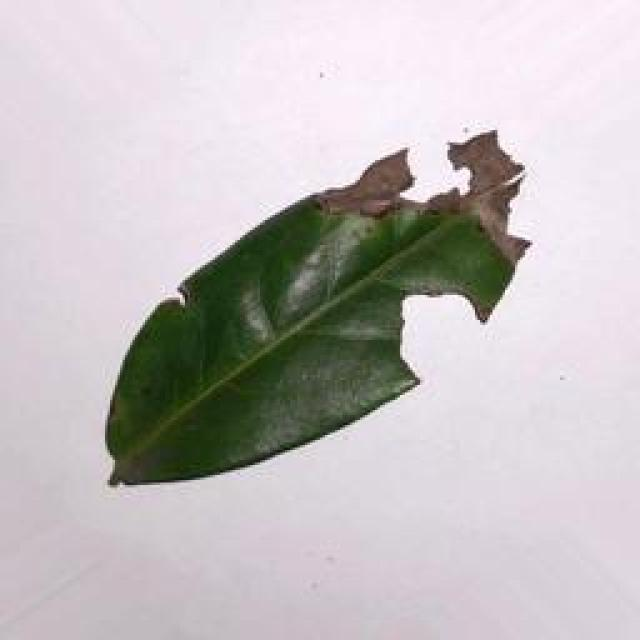Brown Blight: (91, 102, 559, 504)
